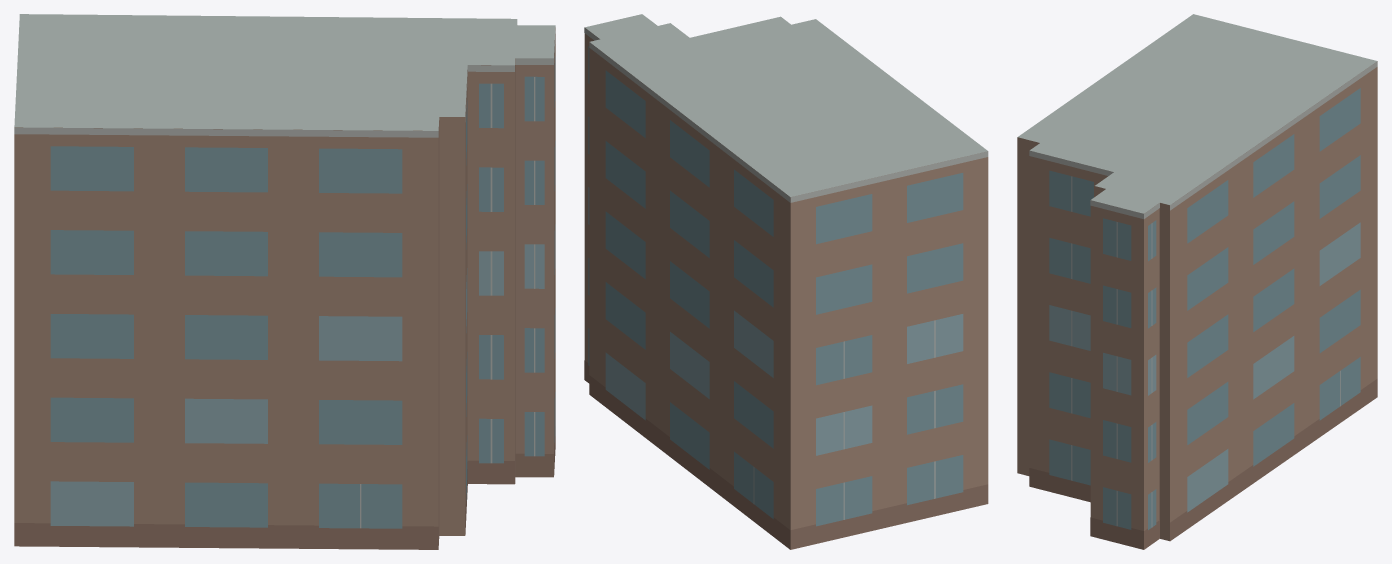
Rendered from survey-upis-32678628.glb.
3 views of the same model, side by side, from view 1: azimuth 30°, elevation 25°; view 2: azimuth 150°, elevation 25°; view 3: azimuth 270°, elevation 25° (orthographic). The views are drawn at different scales.
Visible parts, largest first — view 1: survey-upis-32678628.tmp; view 2: survey-upis-32678628.tmp; view 3: survey-upis-32678628.tmp.
Part boxes in pixels (x1,y1,x2,y2): survey-upis-32678628.tmp: [14, 14, 555, 549]; survey-upis-32678628.tmp: [584, 14, 988, 549]; survey-upis-32678628.tmp: [1017, 14, 1377, 549].
Size of the model in its own units: 19.13 by 15 by 14.58.
